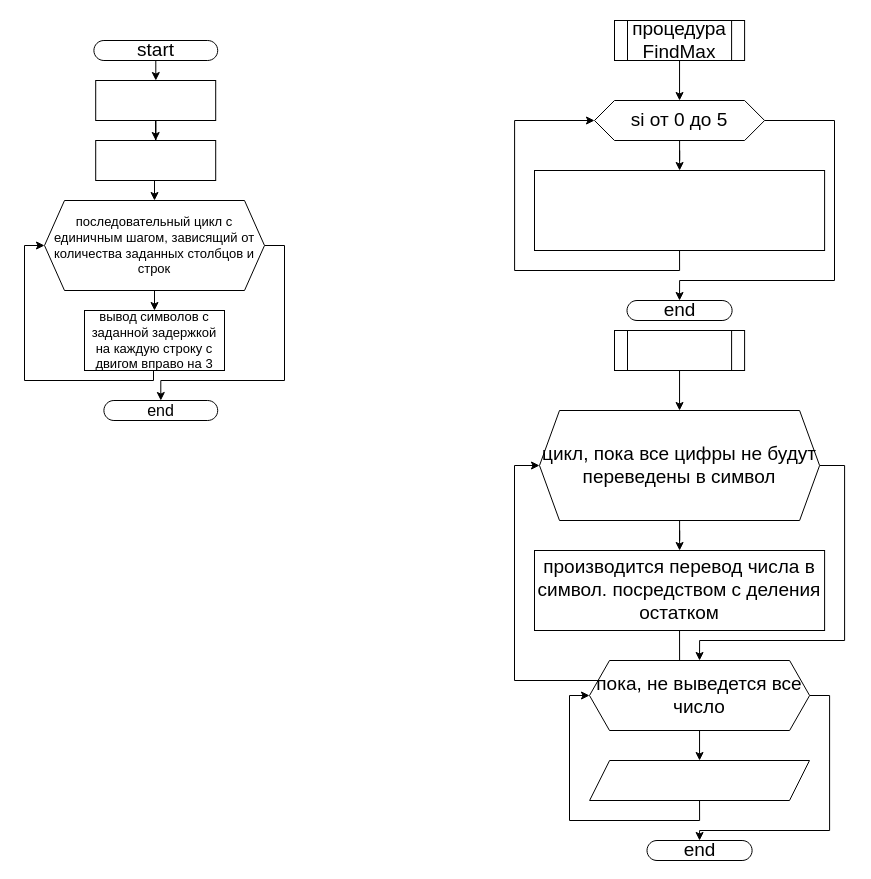
Some shapes in this 871 by 879 pixel diagram are drawn without their labels. Each missing label, with the centre of its shape:
"выбор страницы и фукнцию прерывания в биос" belongs at point 155,100.
"вывод числа" belongs at point 699,780.
"выставляем позицию курсора" belongs at point 155,160.
"процедура PrintNum" belongs at point 679,350.
"Сравнение и при выполнении условий перезапись регистра" belongs at point 679,210.
